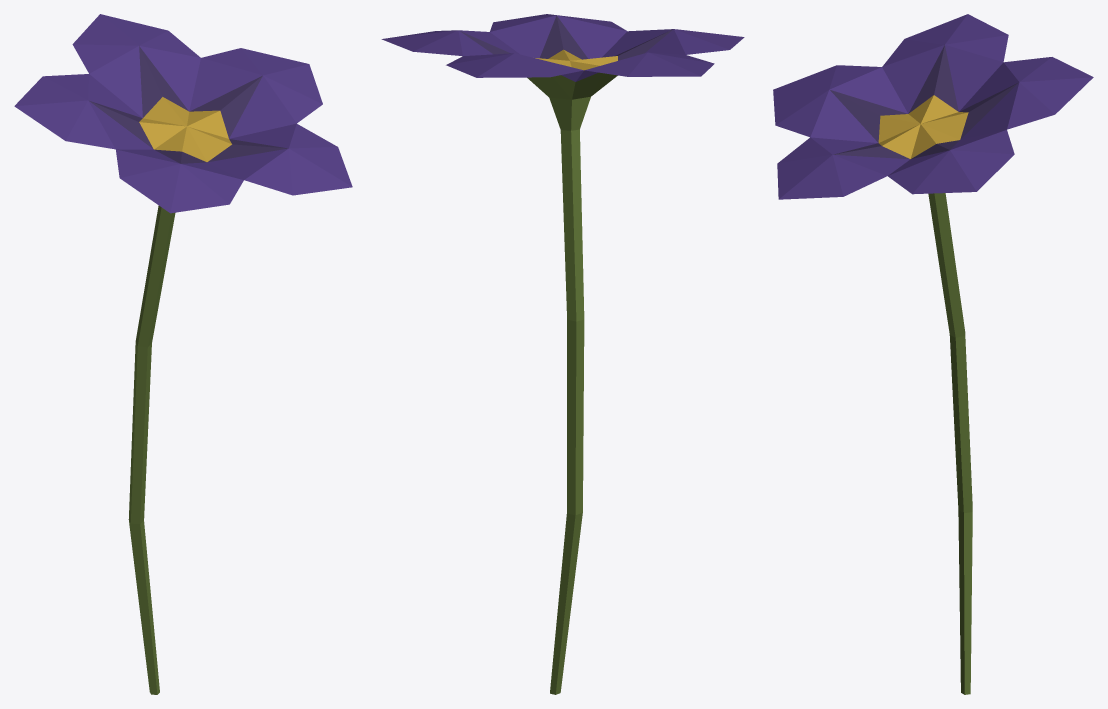
Rendered from SM_Envr_Nature_Plant_Flower_04.fbx.
3 views of the same model, side by side, from view 1: azimuth 30°, elevation 25°; view 2: azimuth 150°, elevation 25°; view 3: azimuth 270°, elevation 25° (orthographic). The views are drawn at different scales.
Visible parts, largest first — view 1: SM_Envr_Nature_Plant_Flower_04; view 2: SM_Envr_Nature_Plant_Flower_04; view 3: SM_Envr_Nature_Plant_Flower_04.
Part boxes in pixels (x1,y1,x2,y2): SM_Envr_Nature_Plant_Flower_04: [14, 14, 352, 694]; SM_Envr_Nature_Plant_Flower_04: [381, 14, 744, 694]; SM_Envr_Nature_Plant_Flower_04: [773, 14, 1093, 694].
Bounding box in the file's own units: 26.92 × 54 × 25.3.
